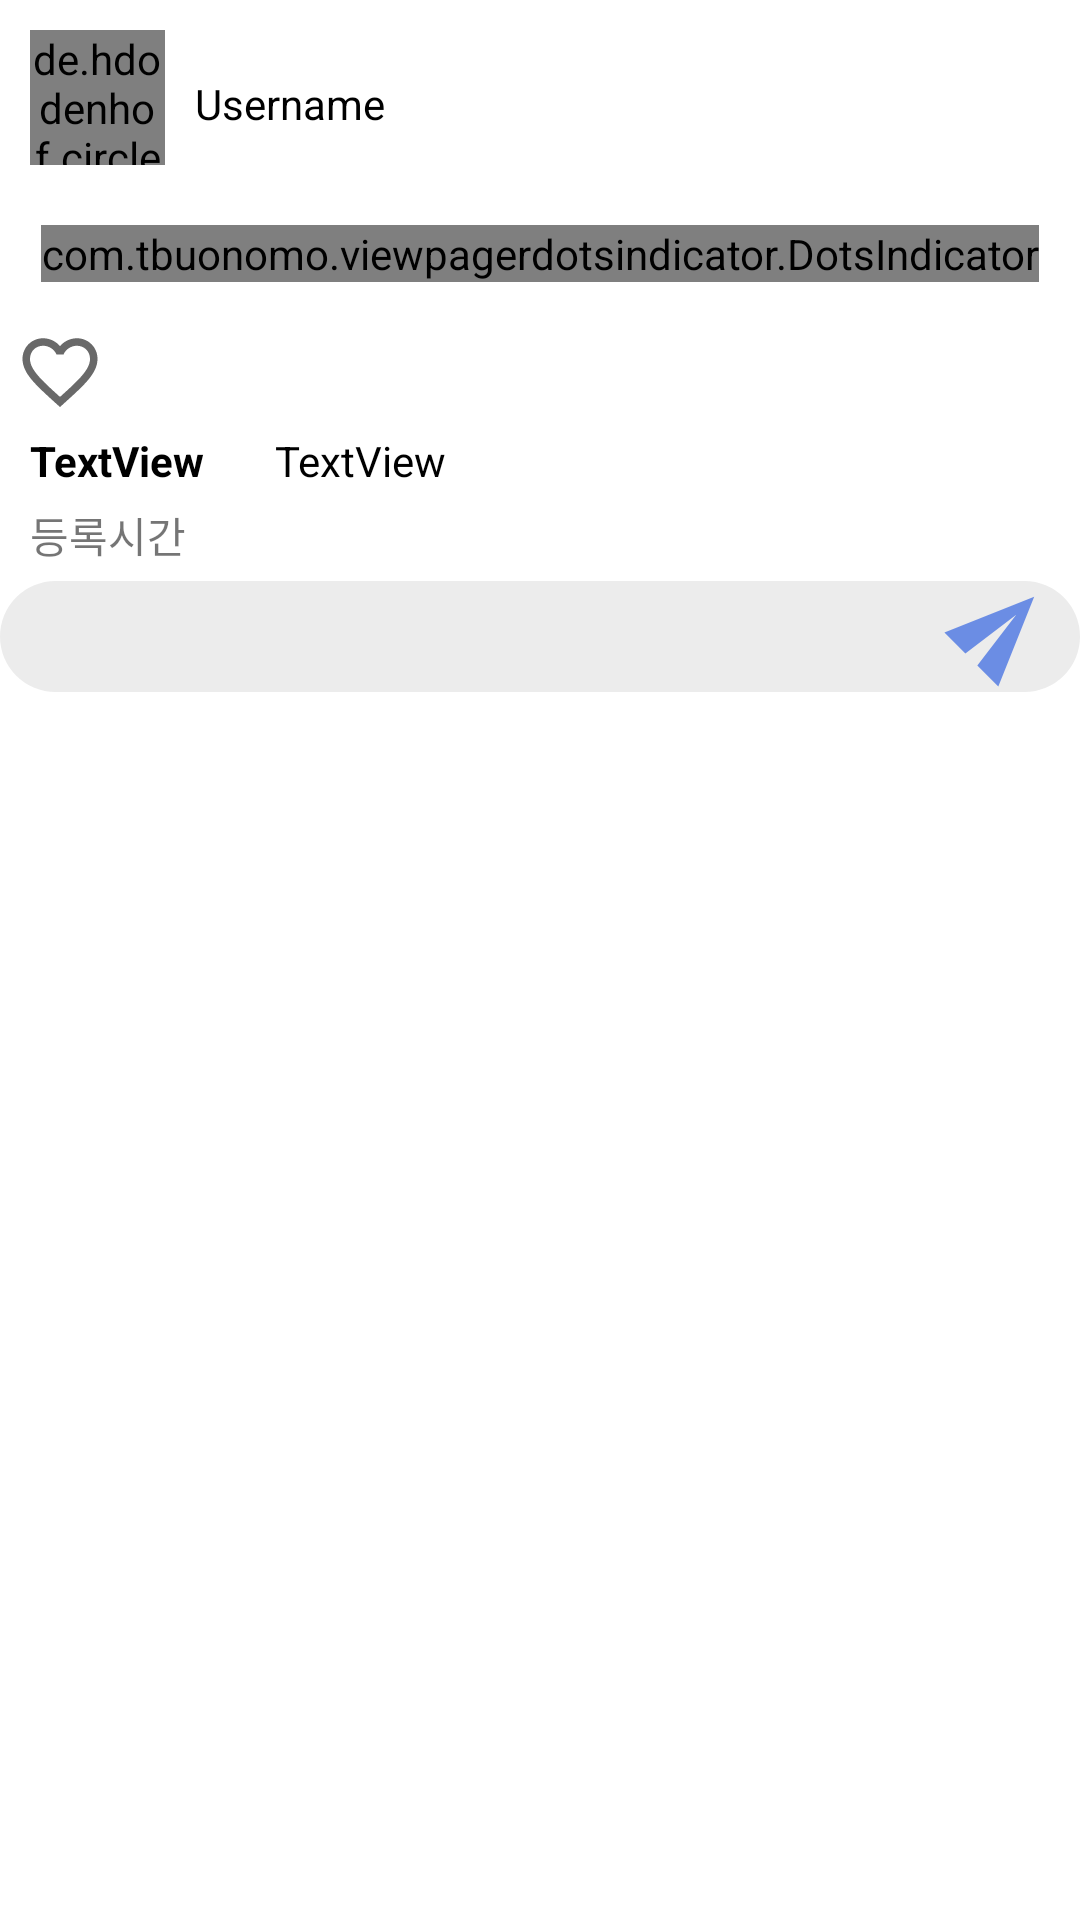

Icons on this 1080px×1920px Android screen, each with its box as [x1,y1,x2,y2]:
favorite border: [22,338,98,407]
send: [944,597,1034,686]
